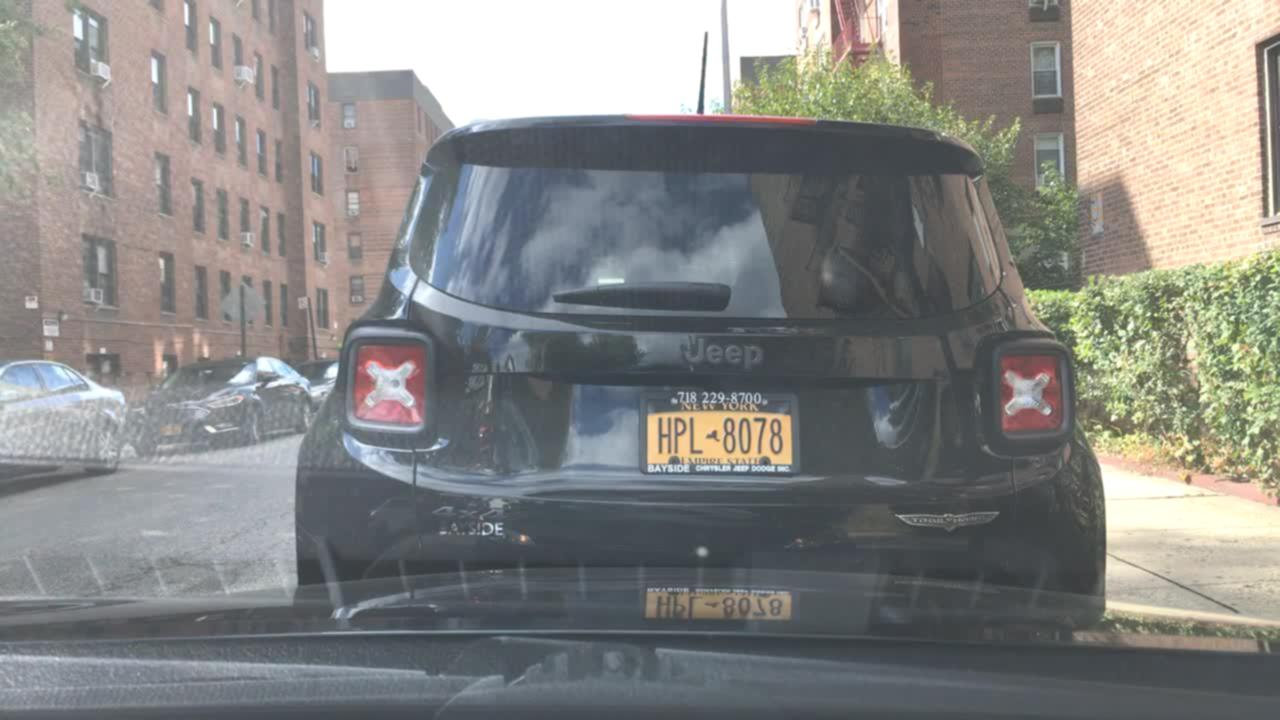jeep: (682, 337, 765, 375)
